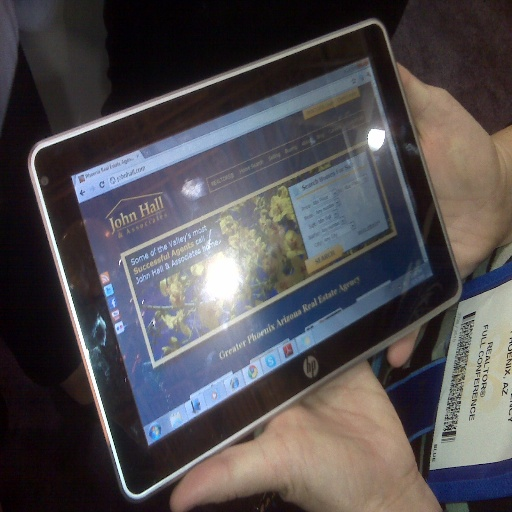hand: (164, 363, 451, 510), (385, 58, 511, 372)
